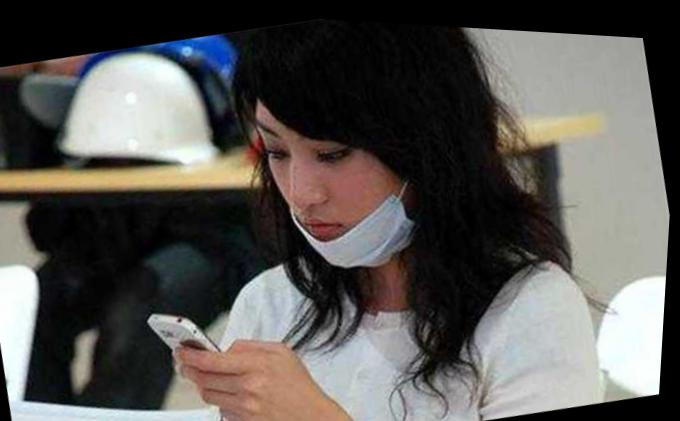WRONG: (250, 70, 431, 279)
